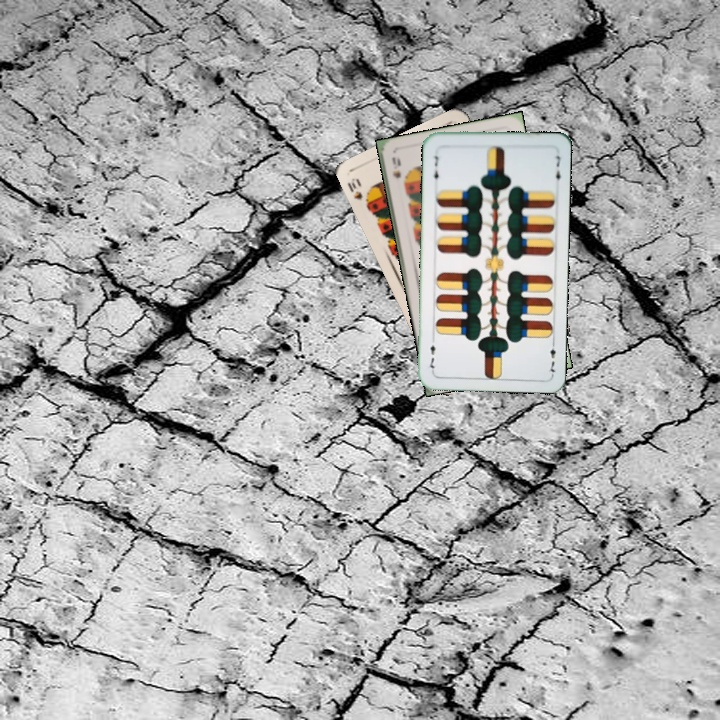E7: (544, 336, 558, 377), (429, 151, 441, 185)
S10: (343, 174, 372, 209)
S9: (388, 153, 403, 181)
